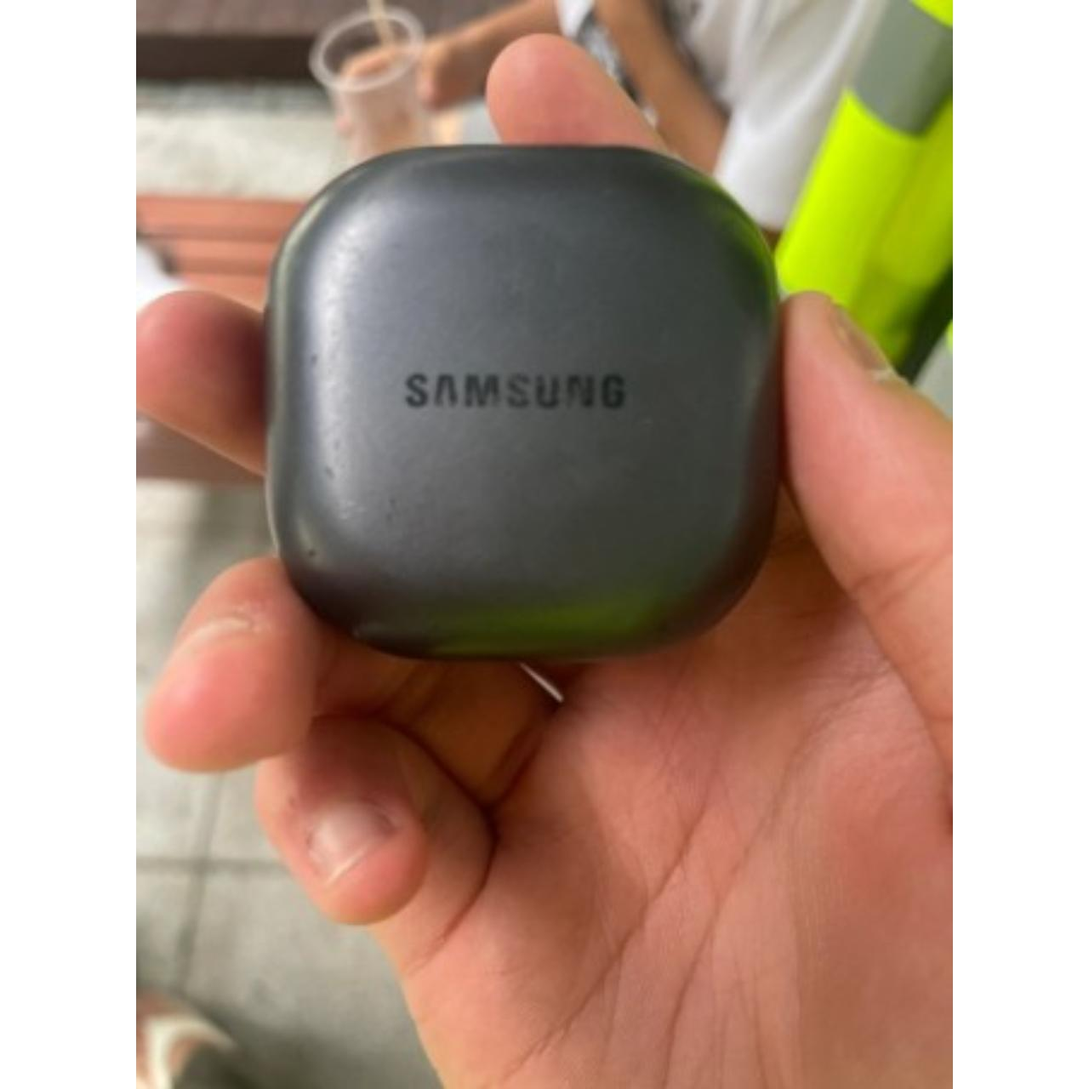Buds: (262, 140, 791, 667)
